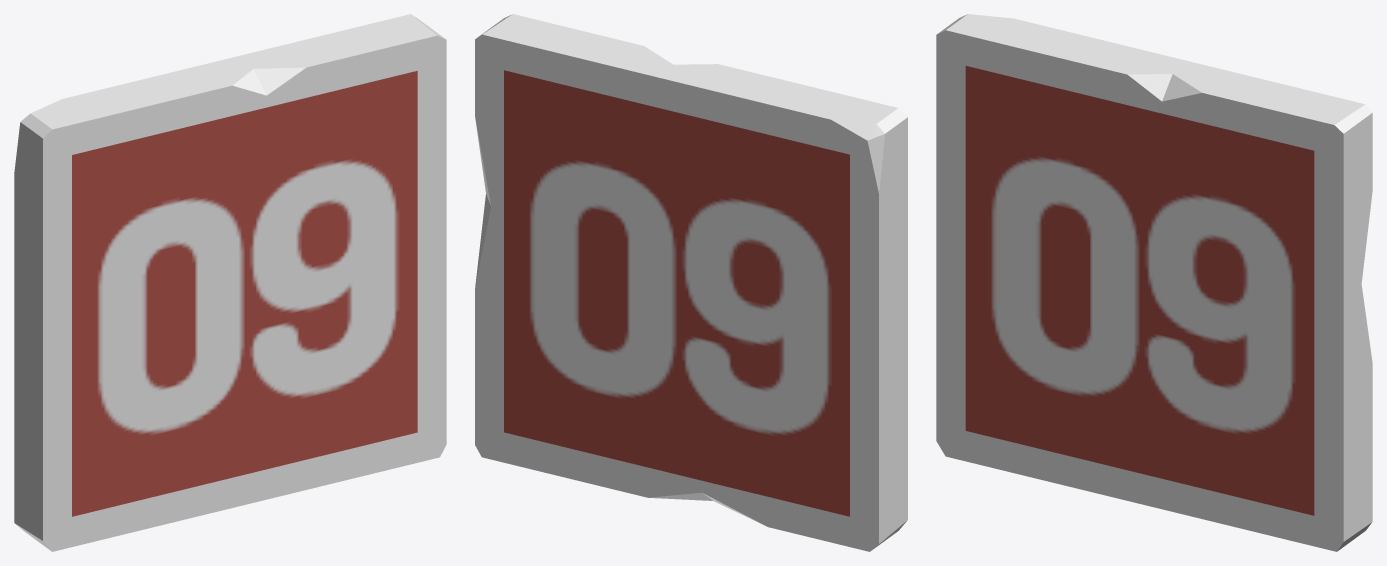
File: SM_SignBorder_Number_09.fbx
3 views of the same model, side by side, from view 1: azimuth 30°, elevation 25°; view 2: azimuth 150°, elevation 25°; view 3: azimuth 330°, elevation 25° (orthographic).
Parts seen in each view (by area): view 1: SM_SignBorder_Number_09; view 2: SM_SignBorder_Number_09; view 3: SM_SignBorder_Number_09.
Part boxes in pixels (bbox=[...]): SM_SignBorder_Number_09: bbox=[14, 14, 446, 551]; SM_SignBorder_Number_09: bbox=[475, 14, 907, 551]; SM_SignBorder_Number_09: bbox=[936, 14, 1372, 551].
Bounding box in the file's own units: 117 × 117 × 14.42.
1 material, 1 textured.
